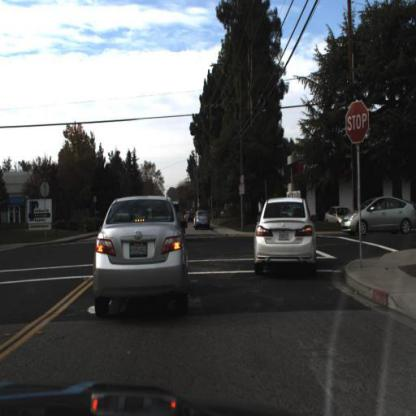car: (93, 194, 189, 317), (254, 195, 319, 275), (339, 197, 415, 237), (194, 206, 212, 232), (327, 203, 350, 222)
